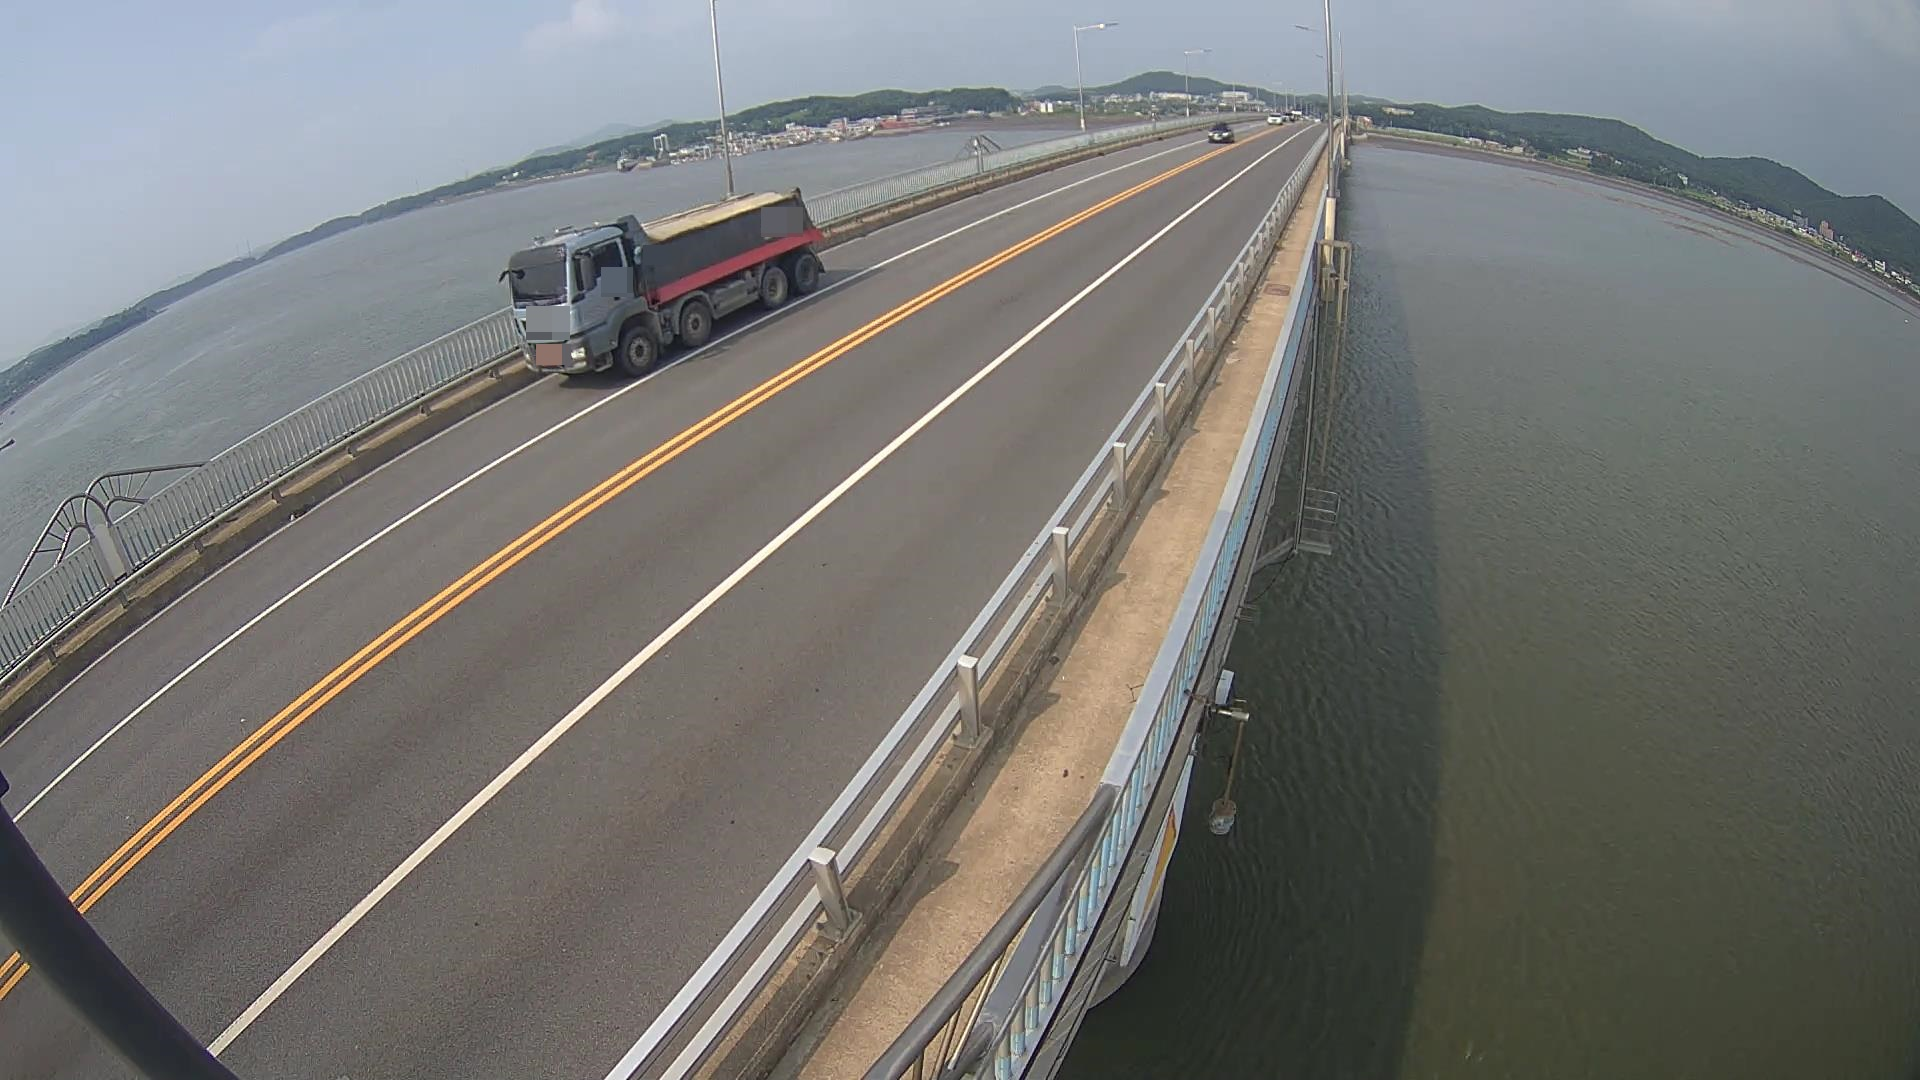정상차량: (500, 187, 827, 378)
